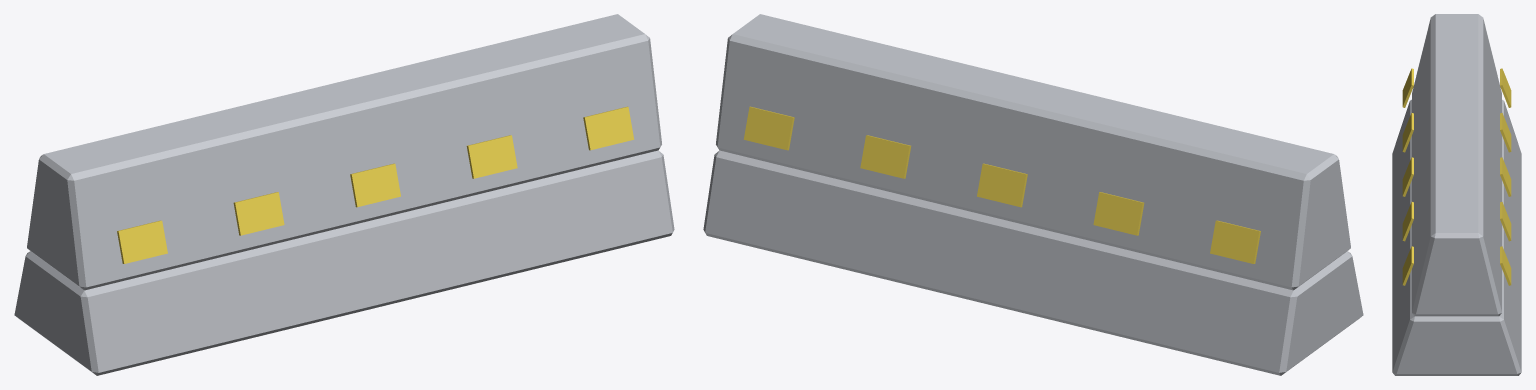
Rendered from jersey_barrier.glb.
3 renders of one model, left to right at view 1: azimuth 30°, elevation 25°; view 2: azimuth 150°, elevation 25°; view 3: azimuth 270°, elevation 25°, orthographic. The views are drawn at different scales.
Visible parts, largest first — view 1: concrete*1.05, concrete, hazard.006, hazard.004, hazard.008, hazard, hazard.002; view 2: concrete*1.05, concrete, hazard.007, hazard.005, hazard.009, hazard.001, hazard.003; view 3: concrete*1.05, concrete, hazard.008, hazard.009, hazard.004, hazard.005, hazard.006, hazard.007, hazard, hazard.001, hazard.002, hazard.003.
Part boxes in pixels (<box>): concrete*1.05: <box>27,14,661,290</box>; concrete: <box>14,150,674,375</box>; hazard.006: <box>466,135,517,178</box>; hazard.004: <box>350,163,400,207</box>; hazard.008: <box>583,106,634,150</box>; hazard: <box>117,220,167,263</box>; hazard.002: <box>233,192,284,235</box>; concrete*1.05: <box>716,14,1350,290</box>; concrete: <box>703,150,1363,375</box>; hazard.007: <box>860,135,911,178</box>; hazard.005: <box>977,163,1027,207</box>; hazard.009: <box>743,106,794,150</box>; hazard.001: <box>1210,220,1260,263</box>; hazard.003: <box>1093,192,1144,235</box>; concrete*1.05: <box>1412,14,1501,316</box>; concrete: <box>1392,99,1521,375</box>; hazard.008: <box>1402,246,1413,285</box>; hazard.009: <box>1500,246,1511,285</box>; hazard.004: <box>1402,157,1413,196</box>; hazard.005: <box>1500,157,1511,196</box>; hazard.006: <box>1402,202,1413,241</box>; hazard.007: <box>1500,202,1511,241</box>; hazard: <box>1402,68,1413,107</box>; hazard.001: <box>1500,68,1511,107</box>; hazard.002: <box>1402,113,1413,152</box>; hazard.003: <box>1500,113,1511,152</box>.
Size of the model in its own units: 4 by 1.2 by 0.9828.
